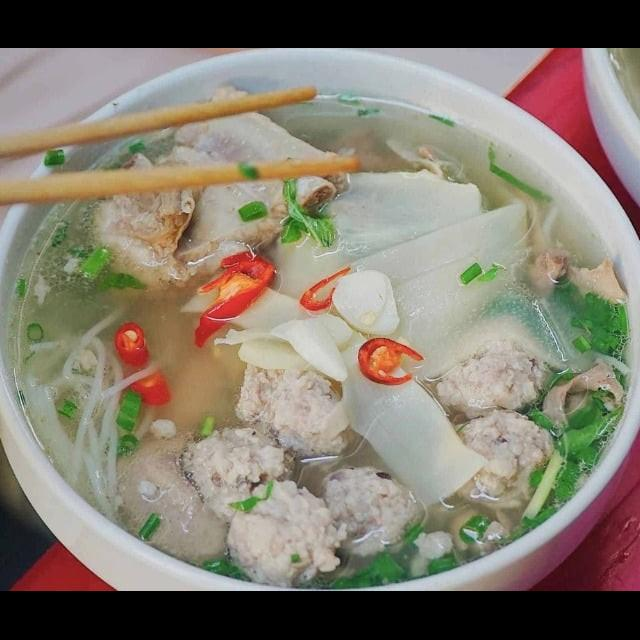thit heo: (85, 80, 353, 304)
vien moc: (11, 324, 131, 492), (215, 478, 350, 592), (428, 308, 566, 419), (236, 352, 369, 466), (442, 398, 560, 518), (176, 422, 305, 518), (319, 462, 424, 560)
